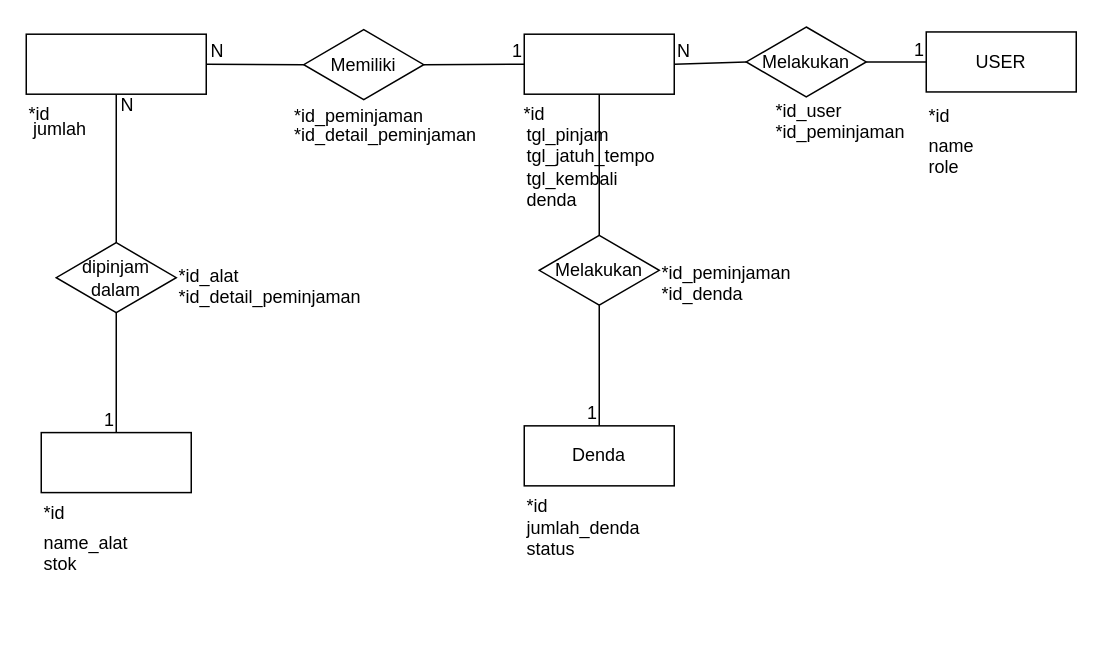
Some shapes in this 1103 by 653 pixel diagram are drawn without their labels. The centre of each missing label's shape, as x and y in pixels:
"Alat" belongs at point 115,462.
"Detail_Peminjaman" belongs at point 115,63.
"peminjaman" belongs at point 598,63.
